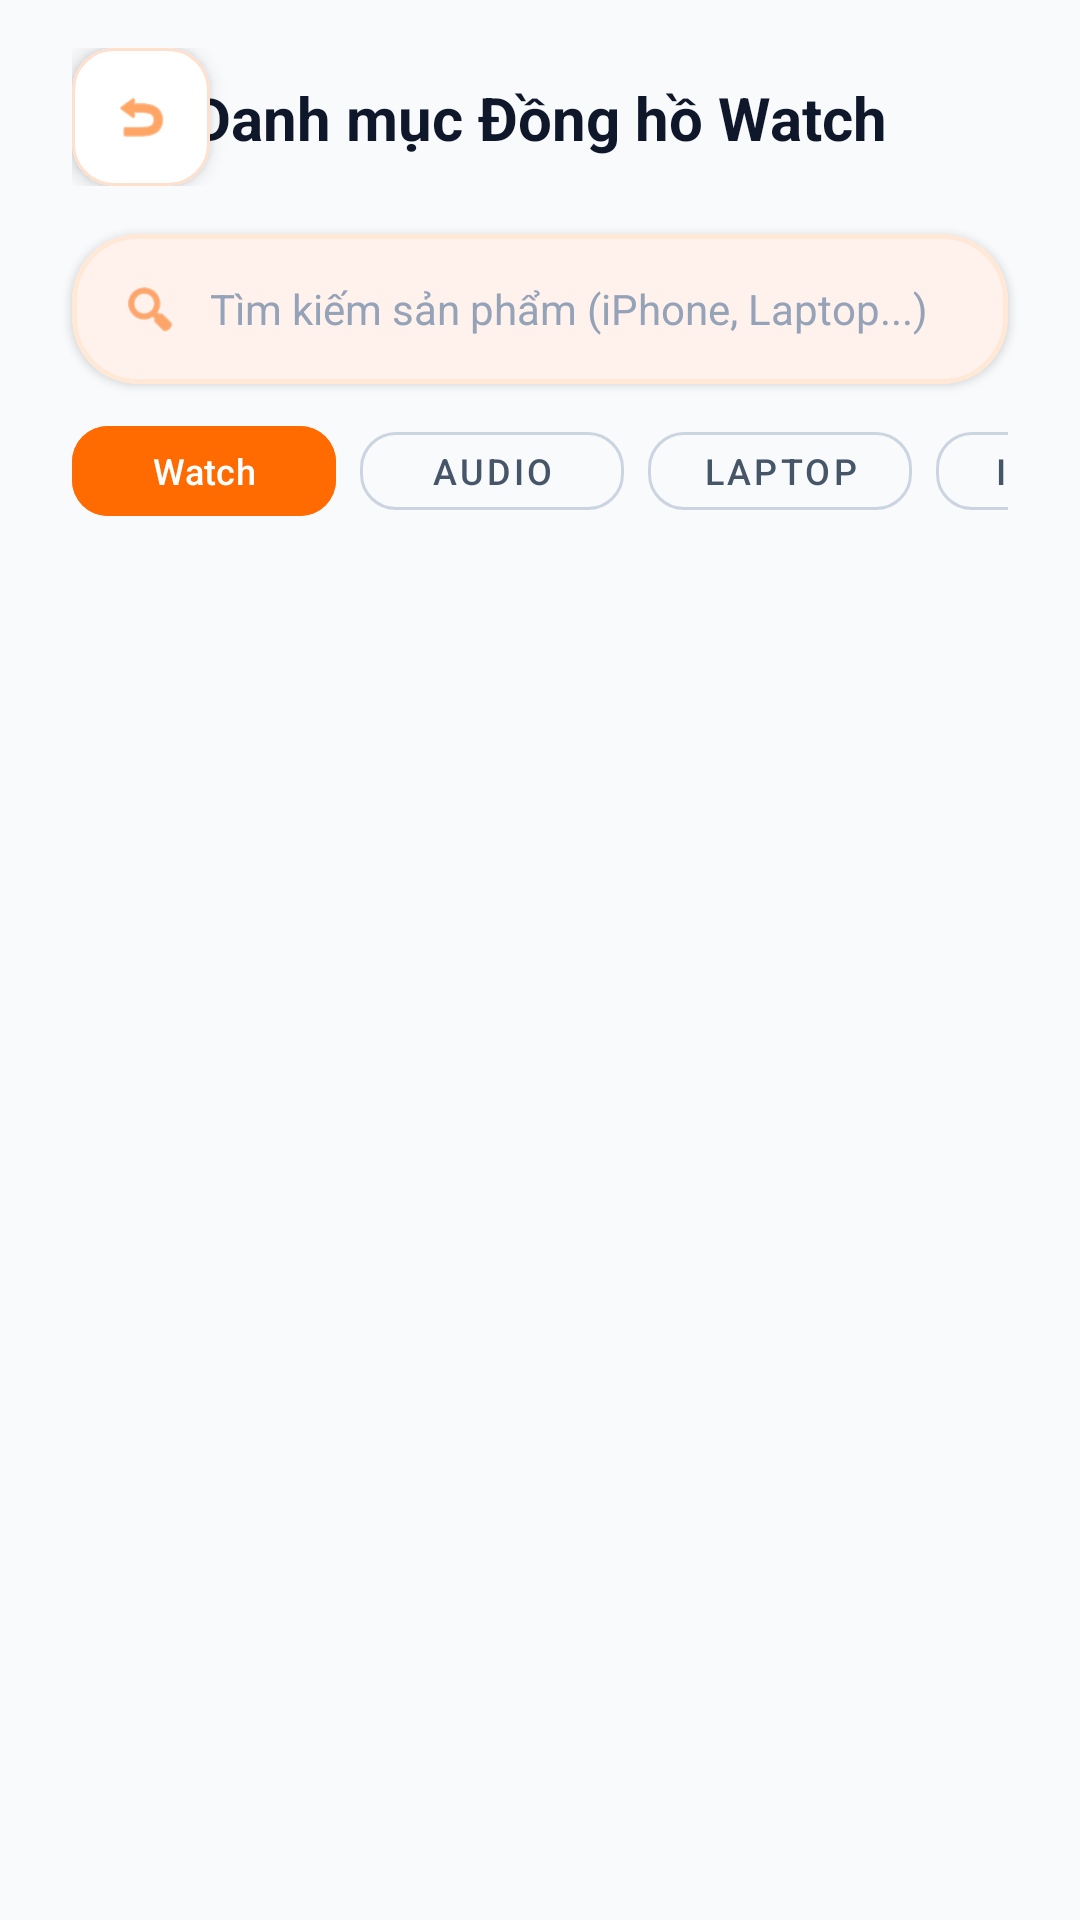

Icons on this 1080x1920 Android screen, each with the point to tap as point (x, y):
revert: point (141, 117)
search: point (150, 309)
